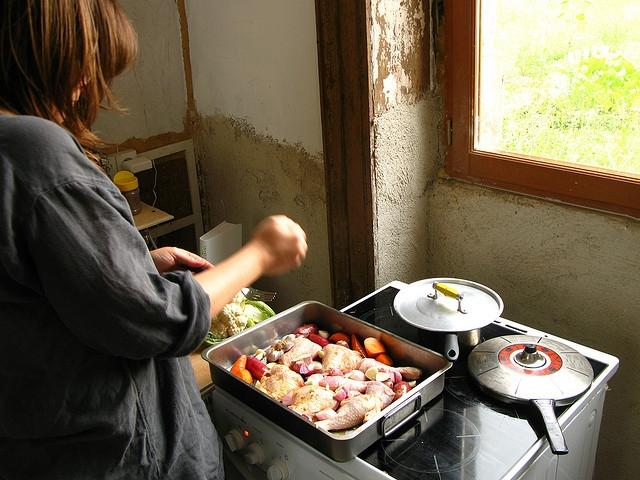carrot: (364, 338, 386, 358), (352, 333, 368, 358), (230, 354, 247, 374), (235, 369, 253, 384), (328, 333, 351, 344), (374, 354, 394, 366)
cauliflower: (219, 303, 242, 326), (236, 315, 248, 326), (209, 327, 219, 339)
